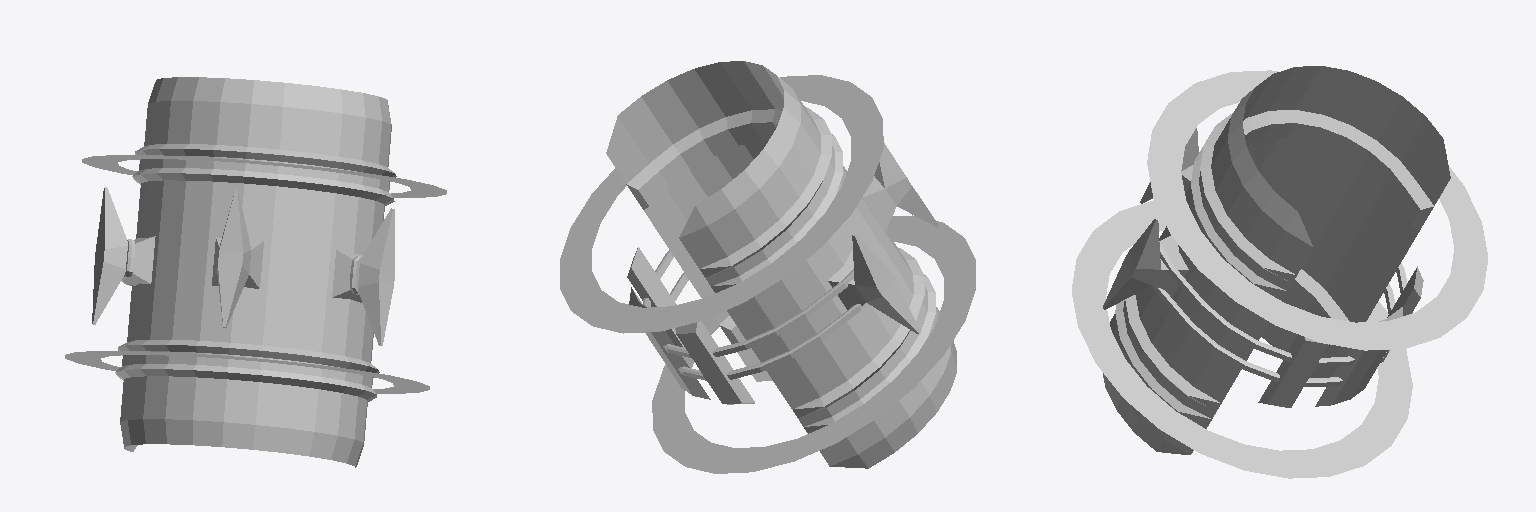
File: HasteningGreaveMesh.obj
3 renders of one model, left to right at view 1: azimuth 30°, elevation 25°; view 2: azimuth 150°, elevation 25°; view 3: azimuth 270°, elevation 25°, orthographic.
Visible parts, largest first — view 1: HasteningGreaveMesh_Hastening_Greave; view 2: HasteningGreaveMesh_Hastening_Greave; view 3: HasteningGreaveMesh_Hastening_Greave.
Boxes of the visible parts, <box> form: HasteningGreaveMesh_Hastening_Greave: <box>65,77,446,467</box>; HasteningGreaveMesh_Hastening_Greave: <box>560,61,975,473</box>; HasteningGreaveMesh_Hastening_Greave: <box>1072,66,1487,478</box>.
Bounding box in the file's own units: 1.67 × 1.61 × 1.69.